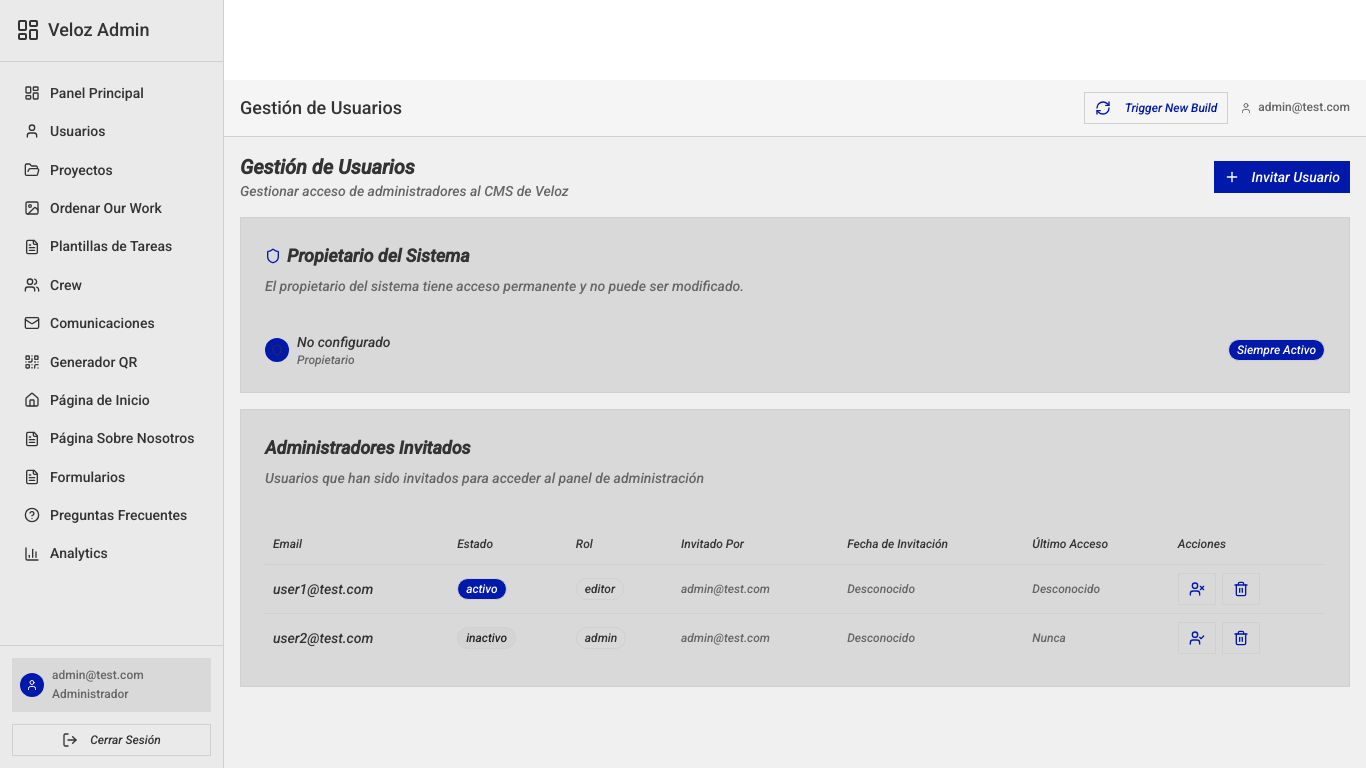
Test: UsersPage › User Invitation › should successfully invite a new user
Click the button "Invitar Usuario" at [1282, 177], box top-left (1214, 161), bottom-right (1350, 193)
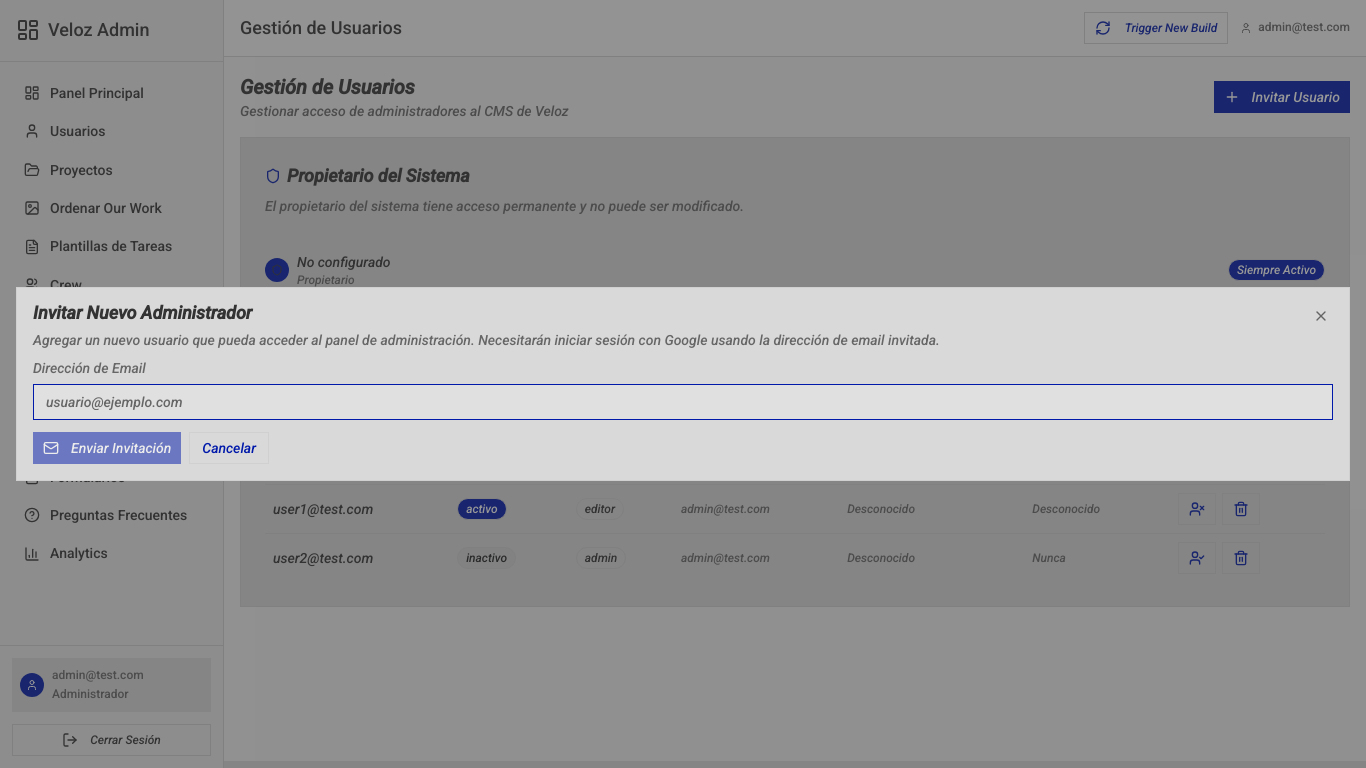
Type "newuser@test.com" into the field labelled "Dirección de Email" at [683, 402], box top-left (33, 384), bottom-right (1333, 420)
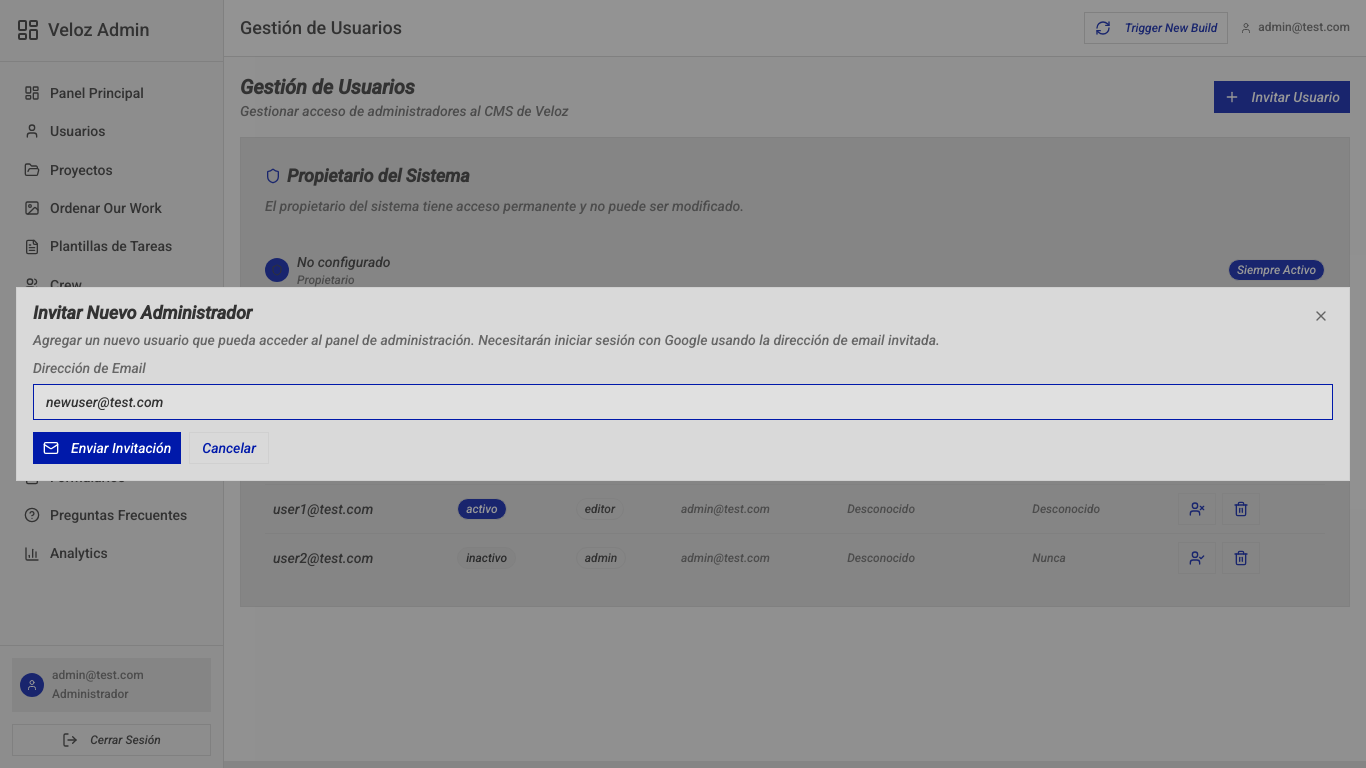
Click the button "Enviar Invitación" at [107, 448], box top-left (33, 432), bottom-right (181, 464)
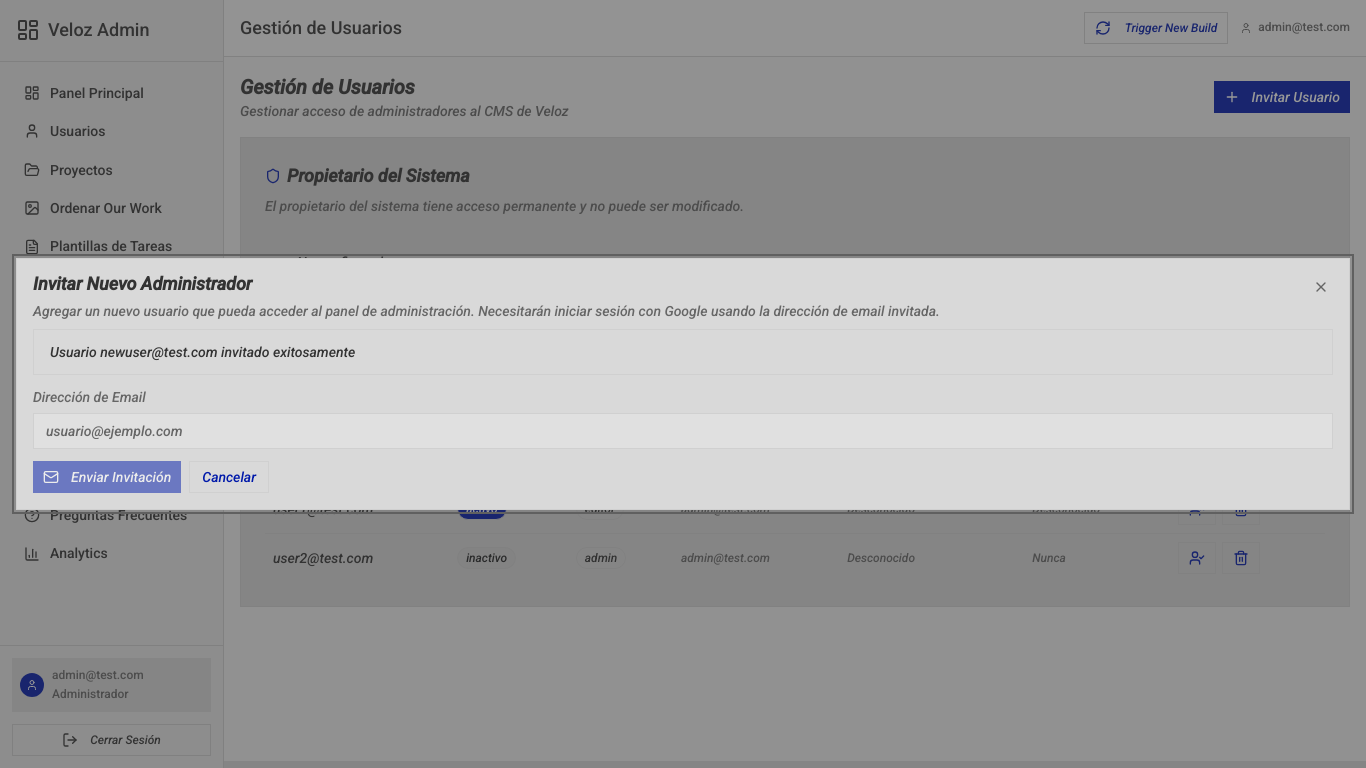
Expected: the text "Usuario newuser@test.com invitado exitosamente" is shown, top-left (50, 344), bottom-right (355, 360)
